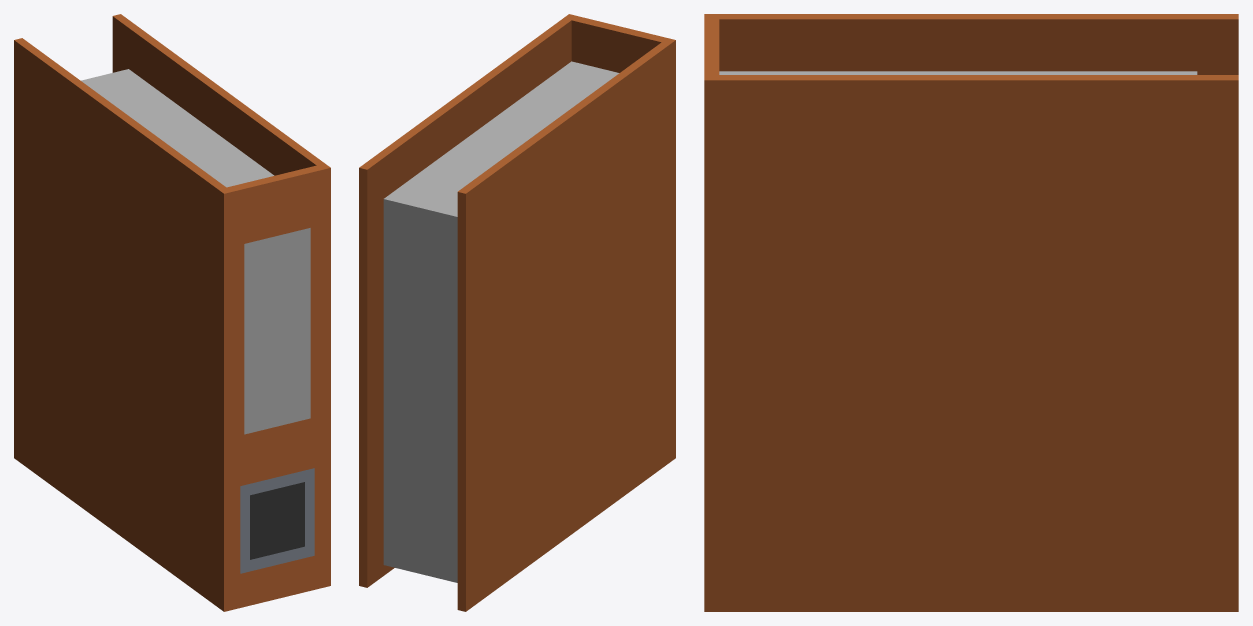
The model's file is SO_Boxfile_05.fbx.
3 views of the same model, side by side, from view 1: azimuth 30°, elevation 25°; view 2: azimuth 150°, elevation 25°; view 3: azimuth 270°, elevation 25° (orthographic). The views are drawn at different scales.
Visible parts, largest first — view 1: SO_Boxfile_05; view 2: SO_Boxfile_05; view 3: SO_Boxfile_05.
Part boxes in pixels (x1=…): SO_Boxfile_05: x1=14, y1=14, x2=330, y2=611; SO_Boxfile_05: x1=359, y1=14, x2=675, y2=611; SO_Boxfile_05: x1=704, y1=14, x2=1238, y2=611.
Bounding box in the file's own units: 0.1745 × 0.6529 × 0.5946.
